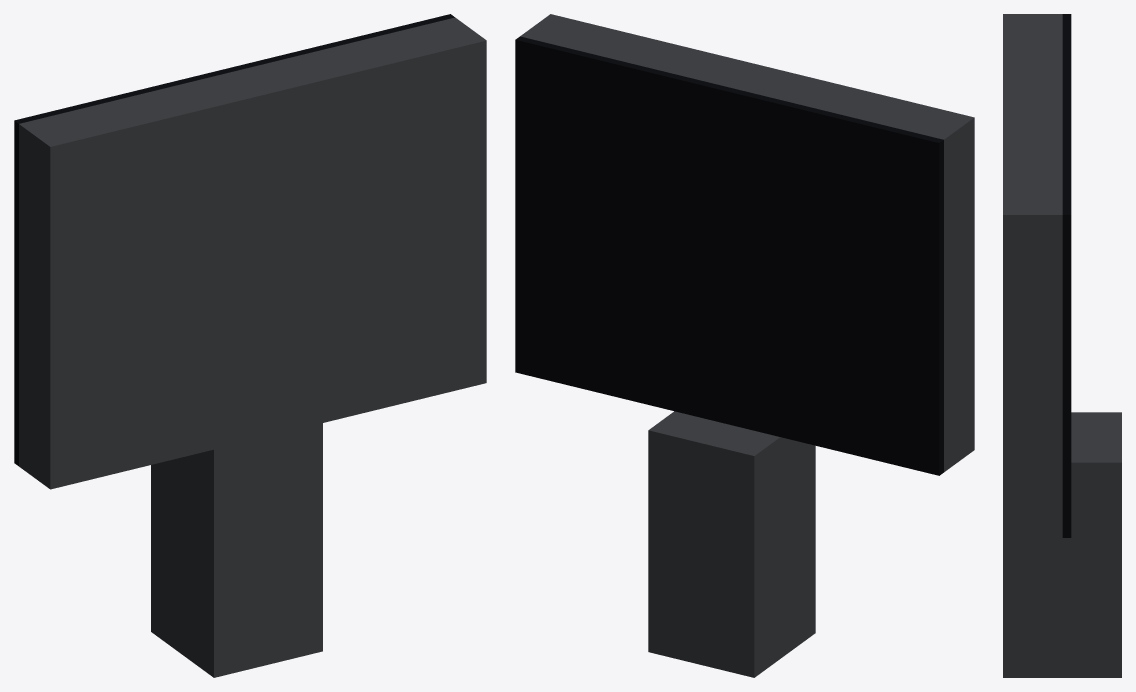
3 renders of one model, left to right at view 1: azimuth 30°, elevation 25°; view 2: azimuth 150°, elevation 25°; view 3: azimuth 270°, elevation 25°, orthographic. The views are drawn at different scales.
Visible parts, largest first — view 1: Housing, Stand, Screen; view 2: Screen, Stand, Housing; view 3: Housing, Stand, Screen.
Part boxes in pixels (x1=…): Housing: x1=19, y1=17, x2=486, y2=489; Stand: x1=151, y1=423, x2=322, y2=677; Screen: x1=14, y1=14, x2=454, y2=466; Screen: x1=515, y1=36, x2=943, y2=475; Stand: x1=648, y1=411, x2=815, y2=677; Housing: x1=520, y1=14, x2=974, y2=472; Housing: x1=1003, y1=14, x2=1062, y2=537; Stand: x1=1003, y1=412, x2=1121, y2=677; Screen: x1=1062, y1=14, x2=1071, y2=537.
Bounding box in the file's own units: 0.5 × 0.625 × 0.125.
Materials: 2 (2 with a texture image).
